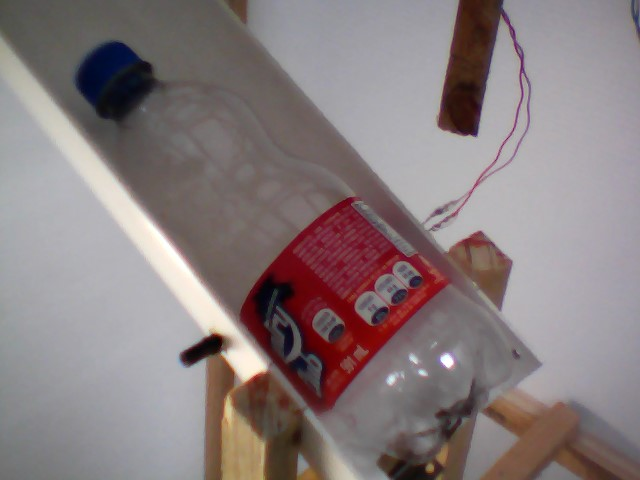plastico: (69, 34, 514, 480)
